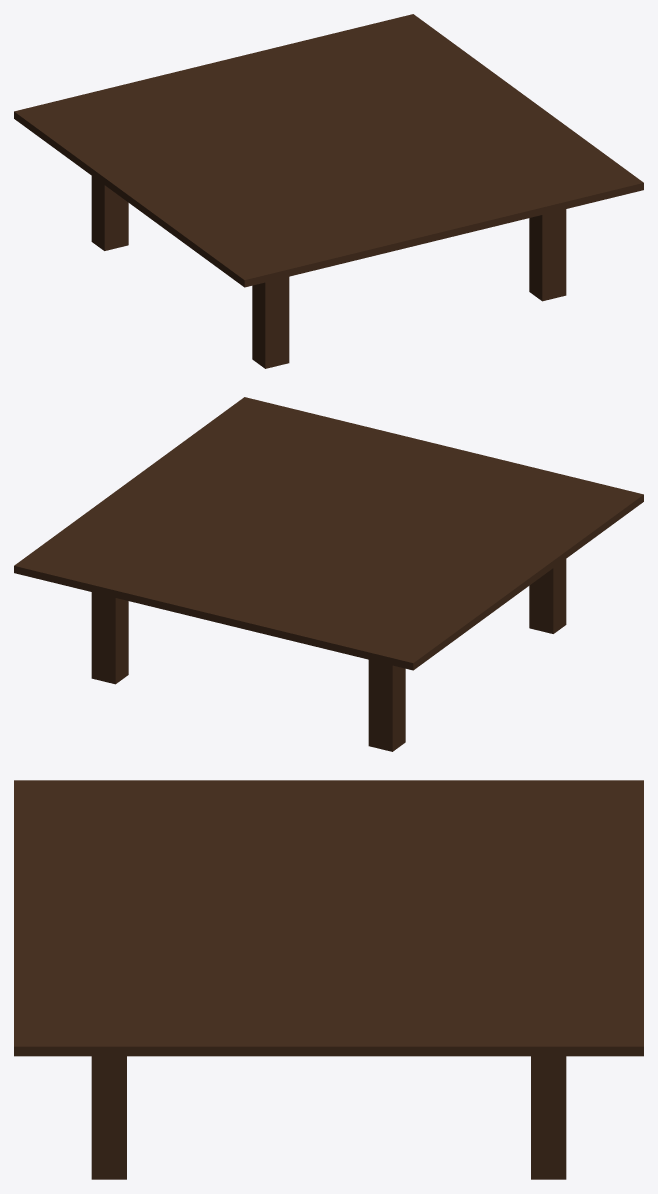
Rendered from Table_Final.fbx.
3 views of the same model, one above another, from view 1: azimuth 30°, elevation 25°; view 2: azimuth 150°, elevation 25°; view 3: azimuth 270°, elevation 25° (orthographic). The views are drawn at different scales.
Parts seen in each view (by area): view 1: pCube2; view 2: pCube2; view 3: pCube2.
Boxes of the visible parts, x1,y1,x2,y2 form: pCube2: [14, 14, 643, 368]; pCube2: [14, 397, 643, 751]; pCube2: [14, 780, 643, 1179].
Size of the model in its own units: 150 by 43.62 by 150.
